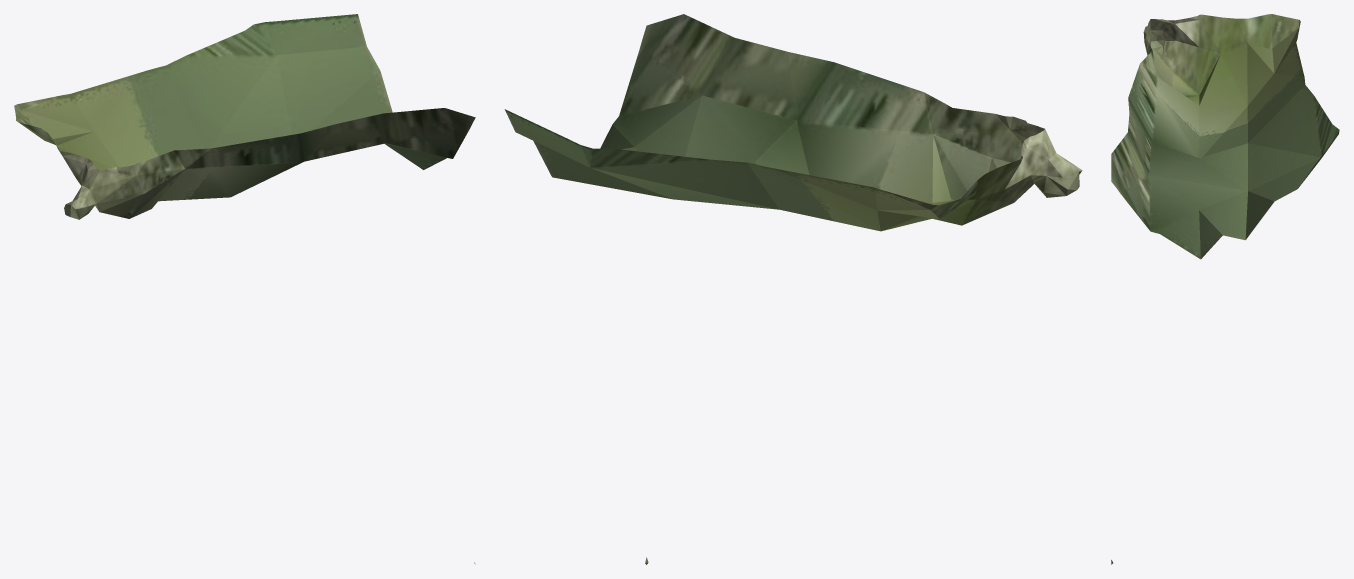
The picture shows the model from 3 angles, left to right: view 1: azimuth 30°, elevation 25°; view 2: azimuth 150°, elevation 25°; view 3: azimuth 270°, elevation 25°; orthographic projection. The views are drawn at different scales.
Bounding box in the file's own units: 4.74 × 5.48 × 2.85.
Materials: 1 (1 with a texture image).
